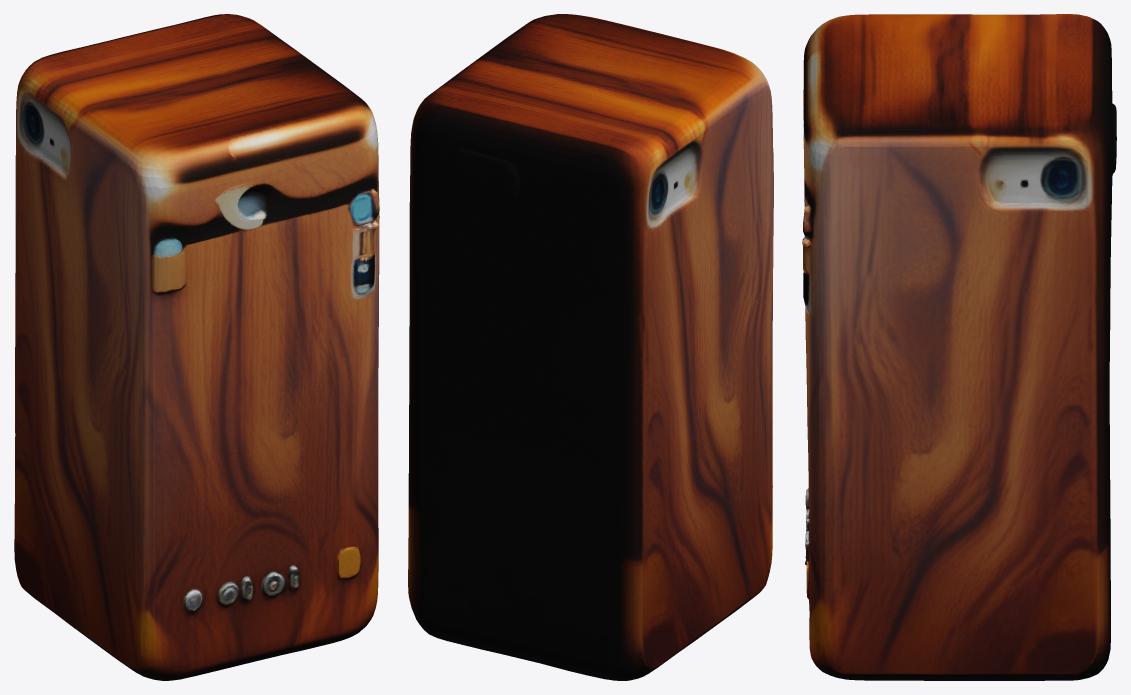
File: wooden-phone-case-rustic.jpeg.glb
The picture shows the model from 3 angles, left to right: view 1: azimuth 30°, elevation 25°; view 2: azimuth 150°, elevation 25°; view 3: azimuth 270°, elevation 25°; orthographic projection. The views are drawn at different scales.
Parts seen in each view (by area): view 1: world; view 2: world; view 3: world.
Boxes of the visible parts, x1=… form: world: x1=14, y1=14, x2=379, y2=680; world: x1=408, y1=14, x2=773, y2=680; world: x1=802, y1=14, x2=1116, y2=680.
Size of the model in its own units: 0.4674 by 0.9985 by 0.5034.
1 material, 1 textured.
